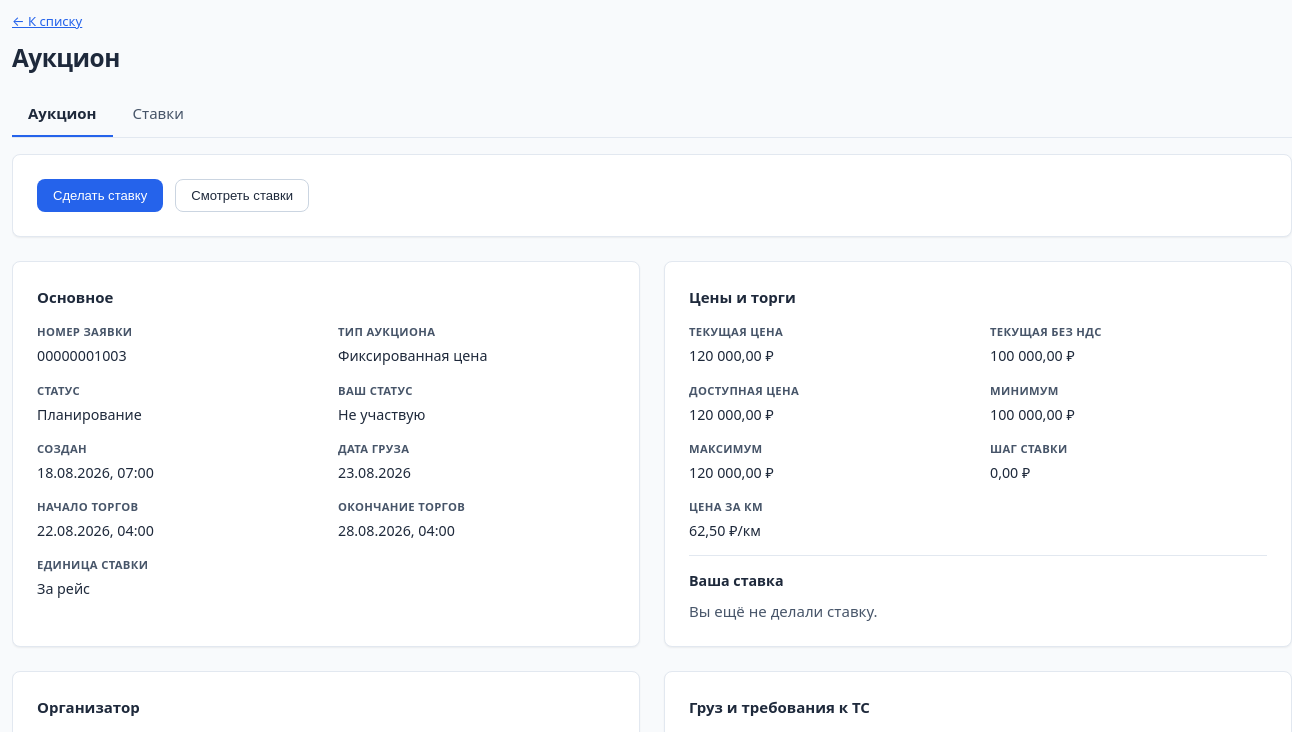
Test: AuctionDetailPage — bets tab › shows an empty state when there are no bets
Click the tab with test id "tab-bets" at (158, 115), box [116,92,200,137]
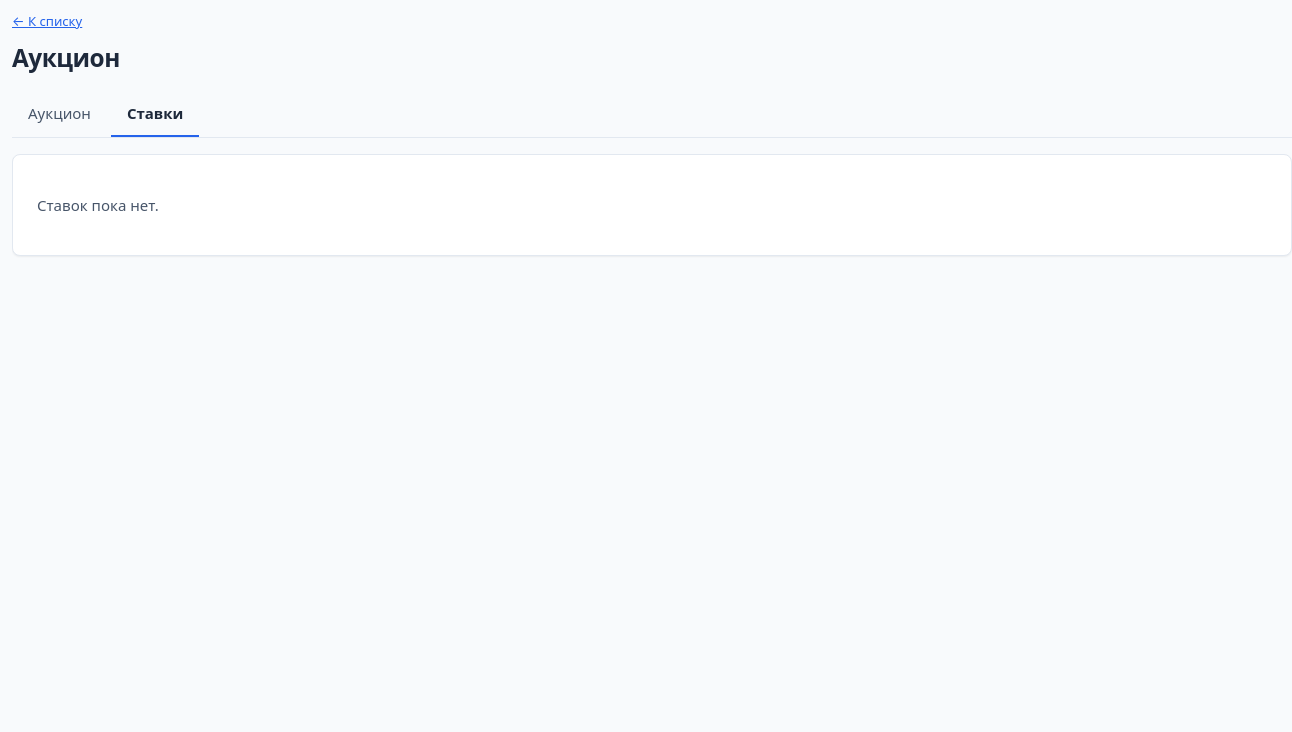
Now the element with test id "bets-empty" is shown, box [12,154,1291,256]
